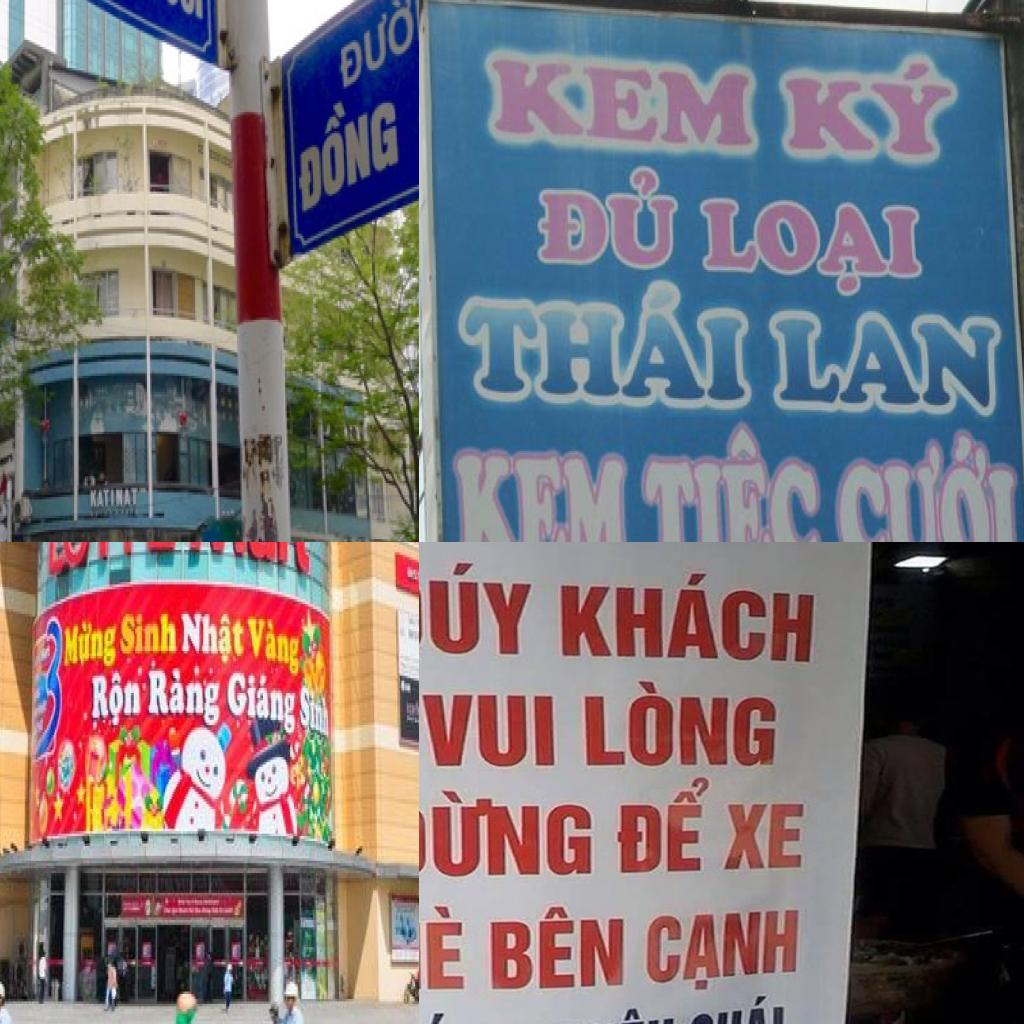text: (456, 272, 754, 408), (481, 48, 761, 159), (760, 308, 1003, 422), (701, 181, 926, 301), (560, 573, 818, 664), (778, 45, 967, 169), (642, 422, 827, 542), (831, 428, 1024, 542), (452, 444, 638, 542), (584, 680, 780, 768), (534, 162, 680, 278), (419, 789, 592, 877), (296, 84, 401, 217), (644, 909, 801, 993), (489, 905, 627, 992), (419, 563, 536, 663), (421, 694, 557, 766), (617, 776, 713, 874), (335, 0, 419, 93), (144, 664, 222, 738), (45, 542, 180, 584), (723, 802, 805, 871), (185, 542, 313, 582), (226, 668, 297, 738), (33, 616, 62, 764), (177, 609, 248, 666), (419, 904, 465, 991), (248, 614, 302, 681), (63, 612, 119, 673), (685, 990, 784, 1024), (89, 671, 142, 732), (122, 607, 177, 661), (298, 683, 331, 737), (587, 1004, 675, 1024), (145, 0, 204, 25), (88, 486, 141, 511)
